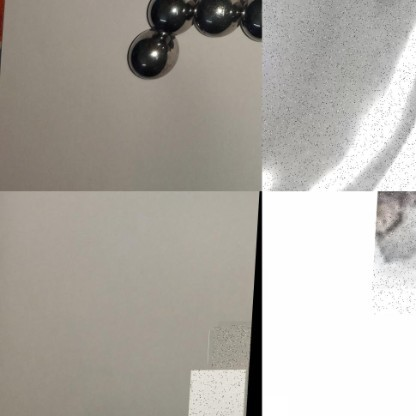ironball: (262, 0, 415, 191), (124, 28, 181, 80), (375, 194, 414, 269), (189, 0, 242, 41), (144, 0, 192, 30), (239, 0, 268, 45), (248, 363, 251, 415)
